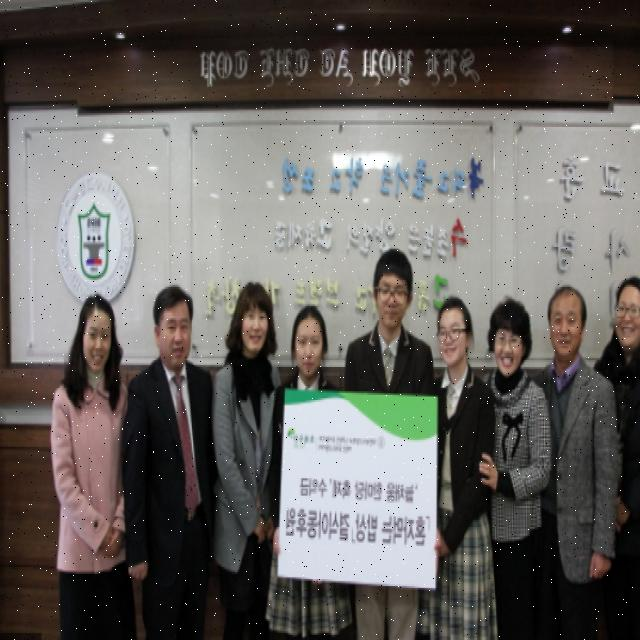logo: (49, 163, 139, 315)
